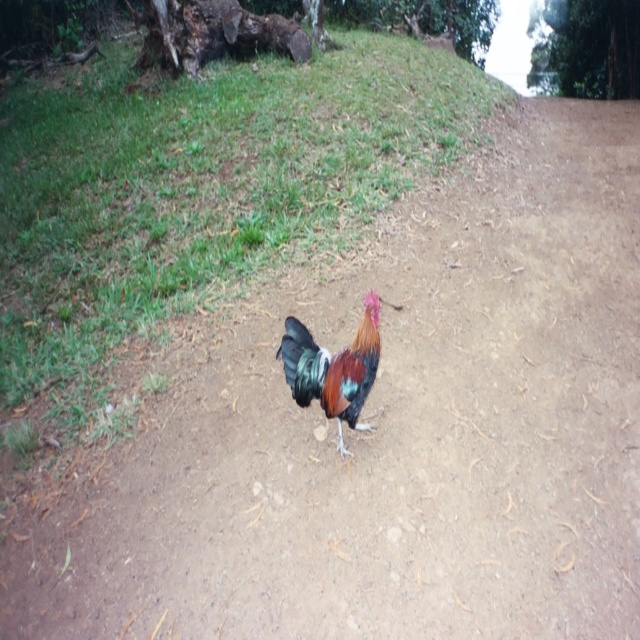Chicken: (280, 278, 388, 446)
